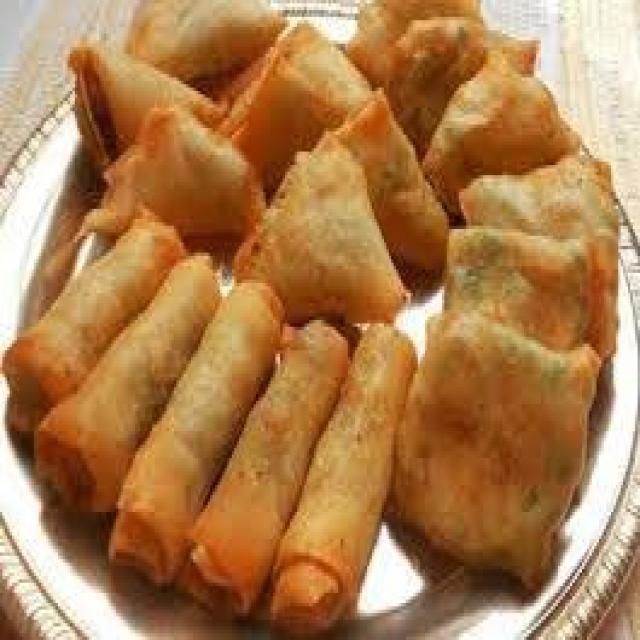Samosa: (64, 0, 478, 282)
Spring Rolls: (9, 202, 398, 623)
